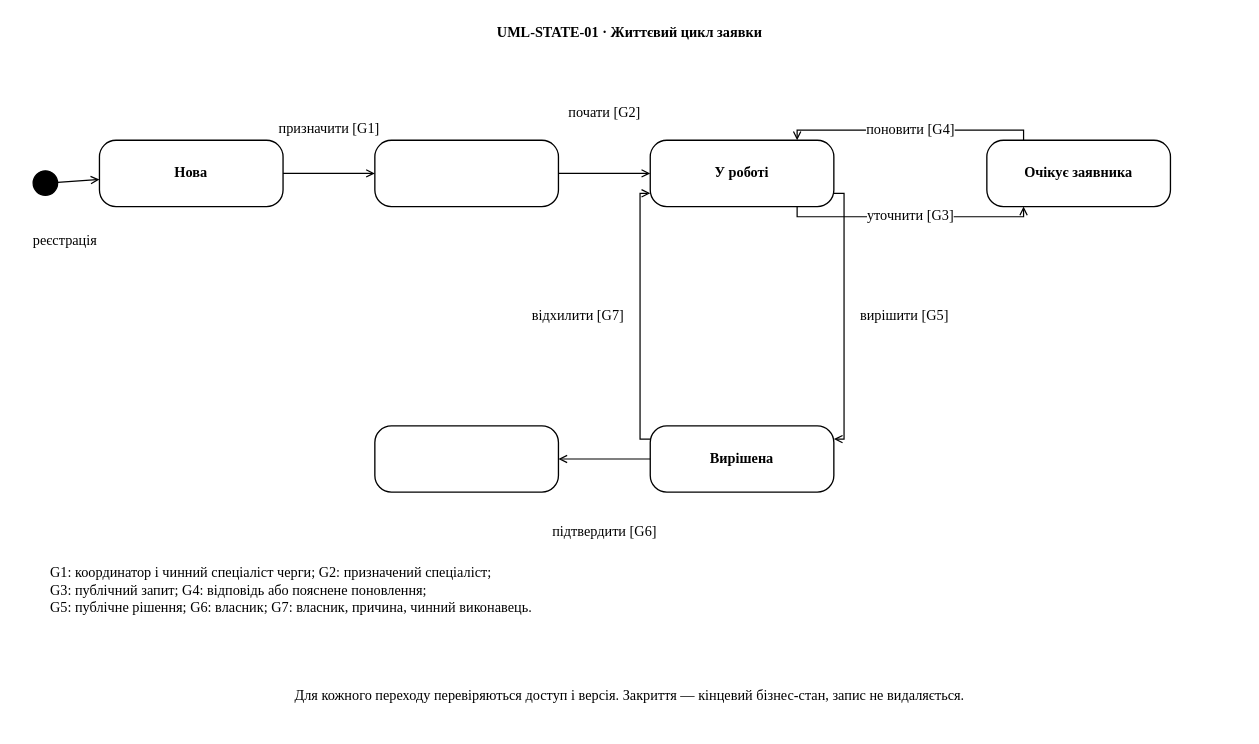
This 1259x744 diagram has some shape labels left out. The centre of each missing label's shape, as x and y in pixels:
"Закрита" goes at point (466, 458).
"Призначена" goes at point (466, 173).
